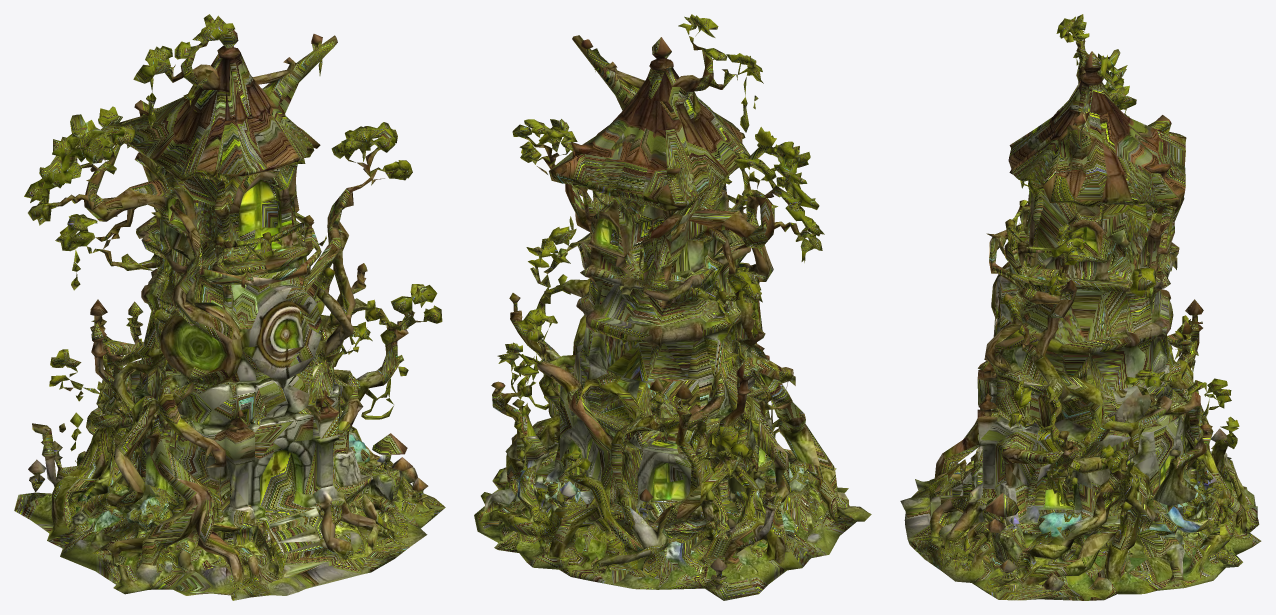
The model's file is Vinebound_Clocktower.glb.
The picture shows the model from 3 angles, left to right: view 1: azimuth 30°, elevation 25°; view 2: azimuth 150°, elevation 25°; view 3: azimuth 270°, elevation 25°; orthographic projection. The views are drawn at different scales.
Visible parts, largest first — view 1: Vinebound_Clocktower; view 2: Vinebound_Clocktower; view 3: Vinebound_Clocktower.
Boxes of the visible parts, x1,y1,x2,y2 form: Vinebound_Clocktower: (14, 14, 445, 600); Vinebound_Clocktower: (474, 14, 871, 600); Vinebound_Clocktower: (900, 14, 1261, 600).
Bounding box in the file's own units: 1.38 × 1.9 × 1.26.
Materials: 1 (1 with a texture image).
